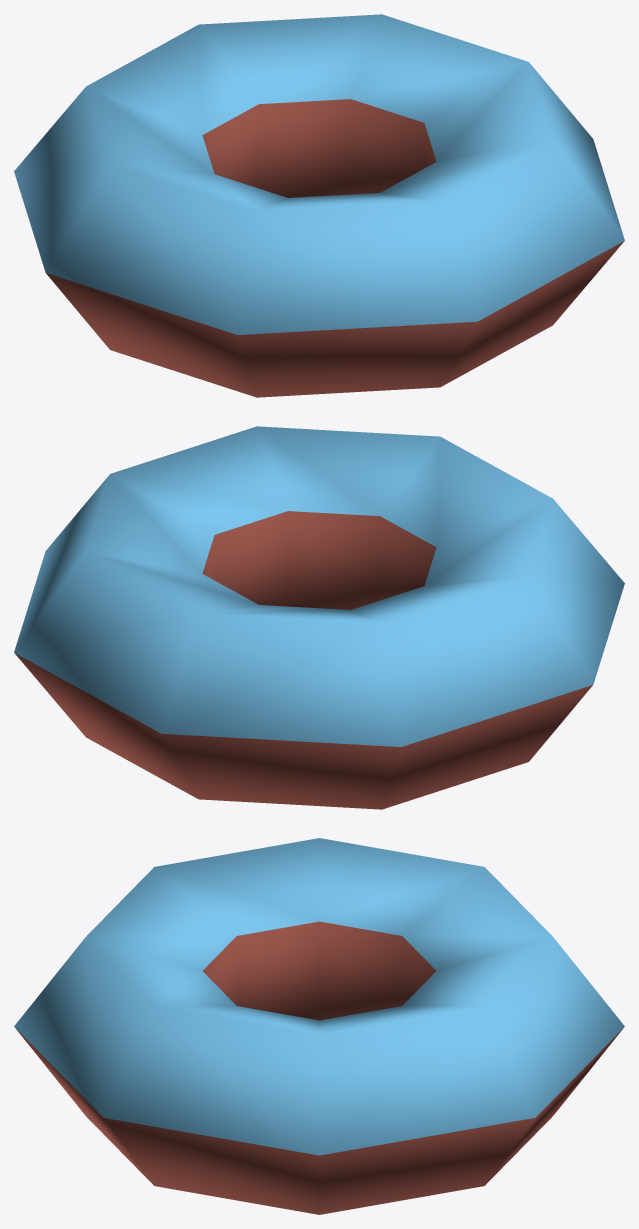
File: Donut.fbx
3 renders of one model, top to bottom at view 1: azimuth 30°, elevation 25°; view 2: azimuth 150°, elevation 25°; view 3: azimuth 270°, elevation 25°, orthographic. The views are drawn at different scales.
Parts seen in each view (by area): view 1: Donut; view 2: Donut; view 3: Donut.
Part boxes in pixels (left/top/right/bottom): Donut: left=14, top=14, right=624, bottom=397; Donut: left=14, top=426, right=624, bottom=809; Donut: left=14, top=838, right=624, bottom=1214.
Size of the model in its own units: 193 by 62.67 by 193.
